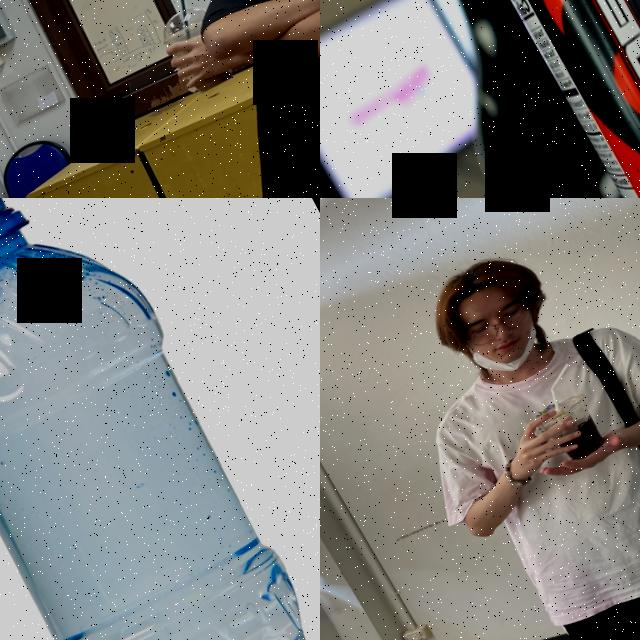bottle: (0, 198, 320, 640)
can: (441, 0, 640, 198)
cup: (151, 0, 247, 100), (529, 387, 610, 471)
